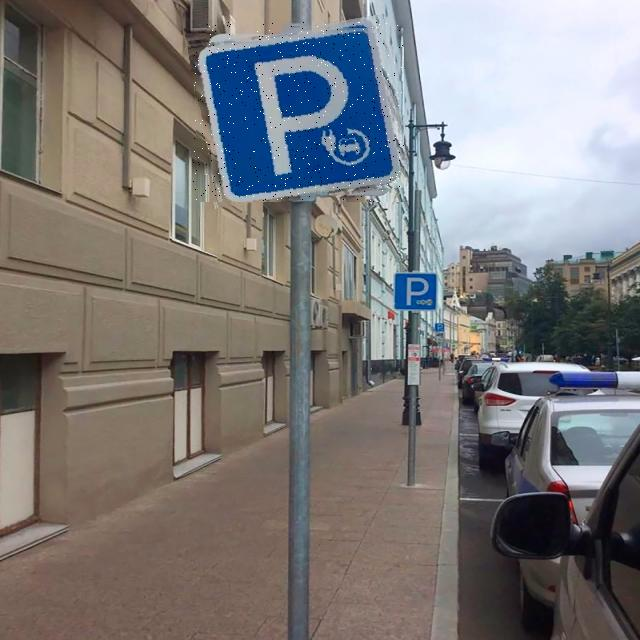parking: (193, 22, 404, 202)
